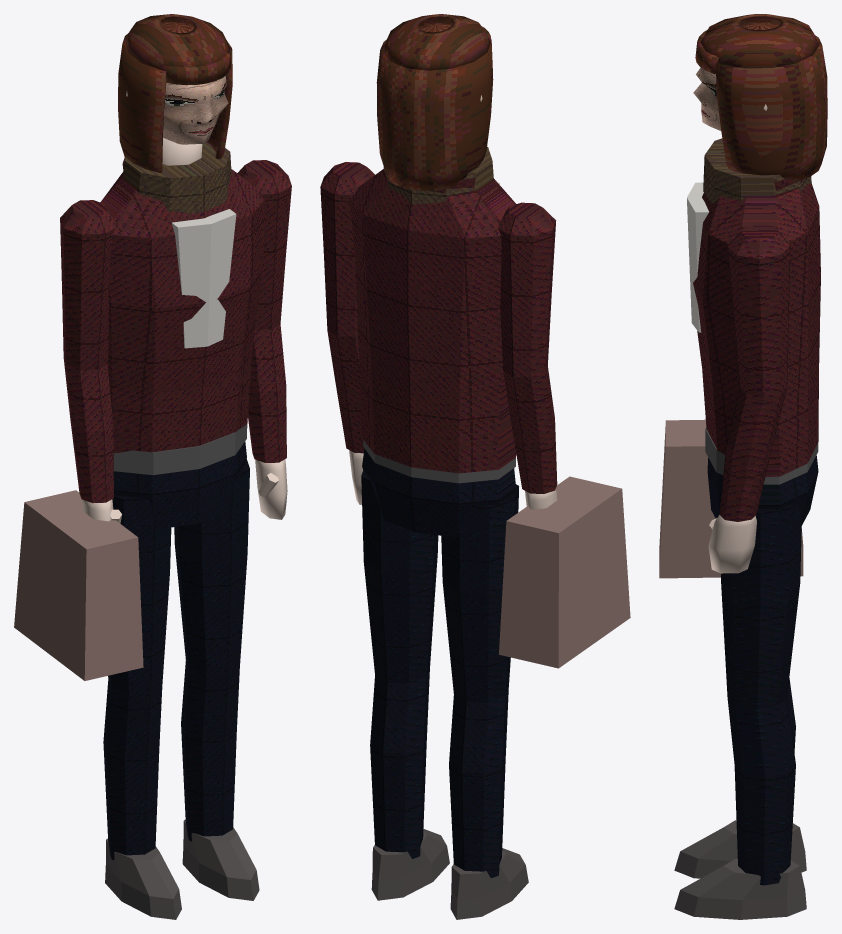
File: char_resident_b.glb
3 renders of one model, left to right at view 1: azimuth 30°, elevation 25°; view 2: azimuth 150°, elevation 25°; view 3: azimuth 270°, elevation 25°, orthographic.
Parts seen in each view (by area): view 1: JacketTorso, LegR_Pivot_Leg, ToteBag, LegL_Pivot_Leg, ArmSleeve_L, ArmSleeve_R, ShirtCollar, HairBobCurtain, Pelvis, Scarf, HairBobCrown, LegR_Pivot_Boot (+6 smaller); view 2: JacketTorso, LegL_Pivot_Leg, LegR_Pivot_Leg, ToteBag, ArmSleeve_L, HairBobCurtain, ArmSleeve_R, Pelvis, HairBobCrown, LegR_Pivot_Boot, LegL_Pivot_Boot, Belt (+1 smaller); view 3: LegR_Pivot_Leg, JacketTorso, ArmSleeve_R, HairBobCurtain, ToteBag, LegR_Pivot_Boot, HairBobCrown, Scarf, LegL_Pivot_Boot, Pelvis, Hand_R, ShirtCollar (+3 smaller).
Part boxes in pixels (x1,y1,x2,y2): JacketTorso: [100, 169, 265, 454]; LegR_Pivot_Leg: [174, 459, 249, 841]; ToteBag: [14, 490, 143, 680]; LegL_Pivot_Leg: [103, 495, 171, 860]; ArmSleeve_L: [60, 200, 115, 503]; ArmSleeve_R: [237, 160, 291, 462]; ShirtCollar: [172, 209, 236, 348]; HairBobCurtain: [118, 33, 232, 172]; Pelvis: [113, 441, 246, 529]; Scarf: [123, 142, 231, 213]; HairBobCrown: [124, 14, 232, 73]; LegR_Pivot_Boot: [182, 819, 259, 900]; JacketTorso: [350, 169, 516, 473]; LegL_Pivot_Leg: [441, 484, 518, 878]; LegR_Pivot_Leg: [361, 470, 438, 858]; ToteBag: [499, 476, 630, 668]; ArmSleeve_L: [498, 202, 557, 493]; HairBobCurtain: [376, 40, 493, 190]; ArmSleeve_R: [320, 162, 374, 453]; Pelvis: [362, 448, 515, 537]; HairBobCrown: [382, 14, 491, 70]; LegR_Pivot_Boot: [371, 829, 449, 900]; LegL_Pivot_Boot: [450, 848, 528, 919]; Belt: [363, 440, 515, 483]; LegR_Pivot_Leg: [719, 502, 801, 885]; JacketTorso: [693, 183, 820, 476]; ArmSleeve_R: [719, 223, 790, 521]; HairBobCurtain: [715, 35, 827, 181]; ToteBag: [659, 419, 803, 578]; LegR_Pivot_Boot: [674, 858, 806, 919]; HairBobCrown: [700, 14, 818, 70]; Scarf: [703, 138, 811, 203]; LegL_Pivot_Boot: [674, 820, 806, 878]; Pelvis: [707, 455, 818, 525]; Hand_R: [708, 515, 756, 573]; ShirtCollar: [687, 182, 708, 332].
Size of the model in its own units: 0.5158 by 1.67 by 0.2922.
Materials: 10 (5 with a texture image).
